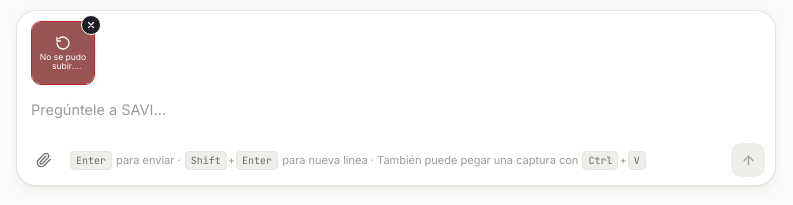
Test: Composer · imágenes adjuntas › reintentar una subida fallida la completa
What coordinates should you click on to do the following:
click the button with aria-label "Reintentar subir captura.png"
I would click on:
 (63, 53)
Its box is [32,22,94,84].
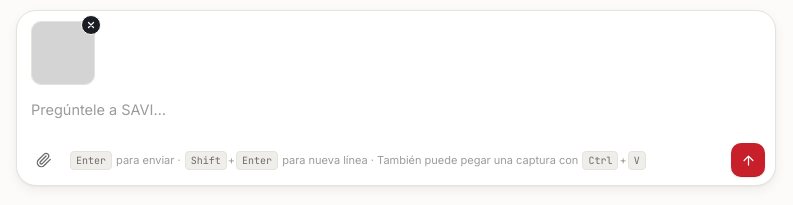
Expected: the button named "Enviar" is enabled, [731,143,765,177]
